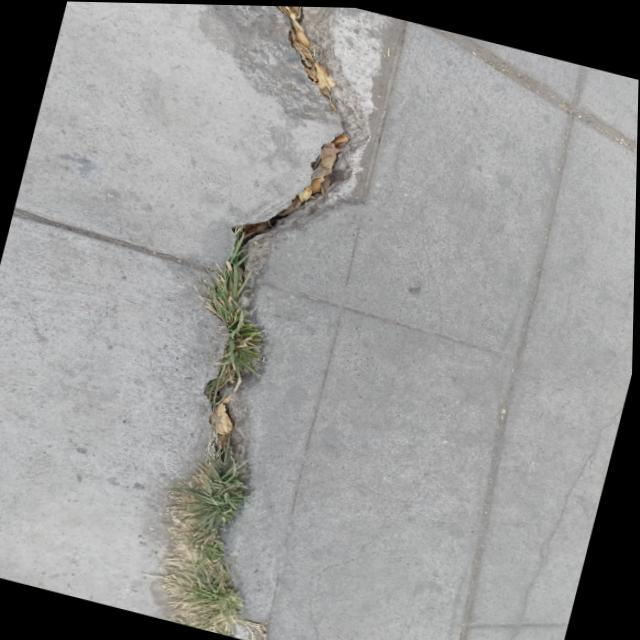hole: (109, 13, 384, 254)
